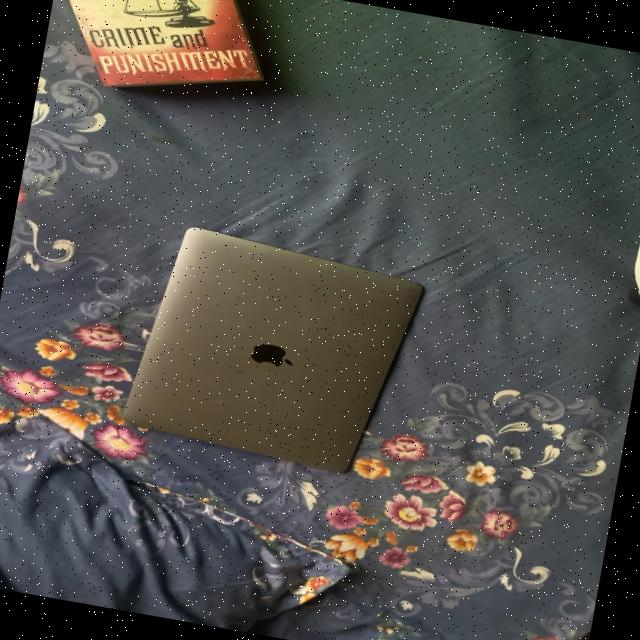book: (37, 0, 297, 125)
laptop: (79, 210, 428, 494)
